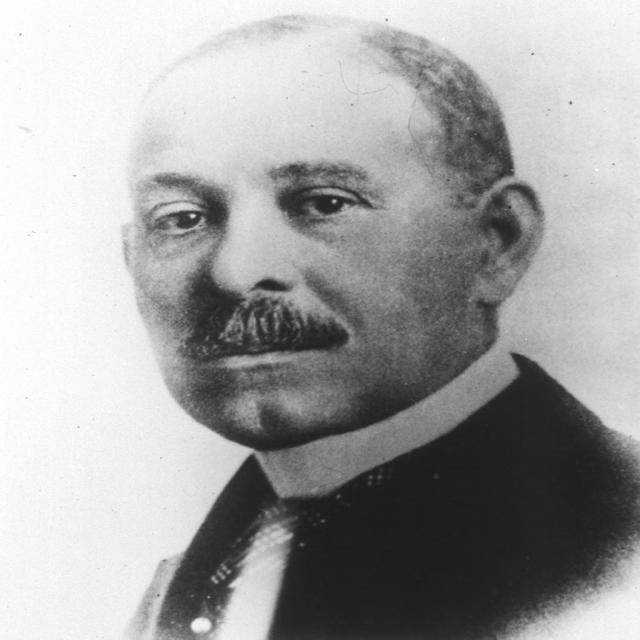nomask: (133, 75, 478, 443)
